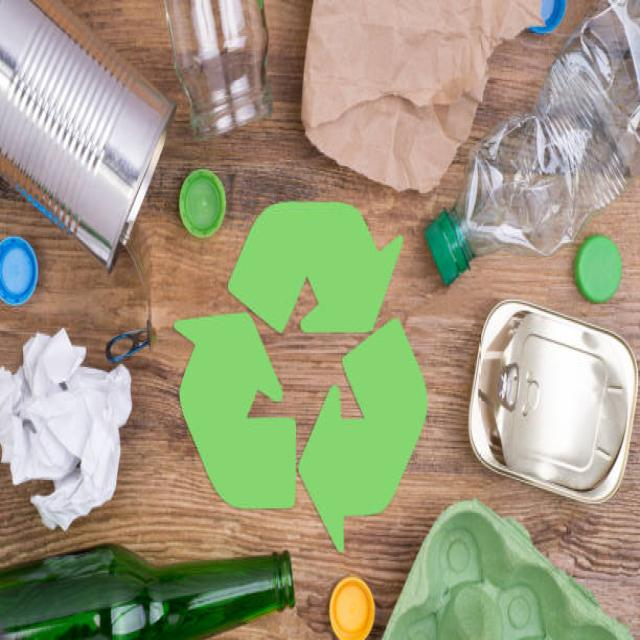glass: (6, 554, 306, 638)
metal: (466, 294, 640, 512), (4, 11, 171, 235)
plastic: (416, 107, 580, 280)
